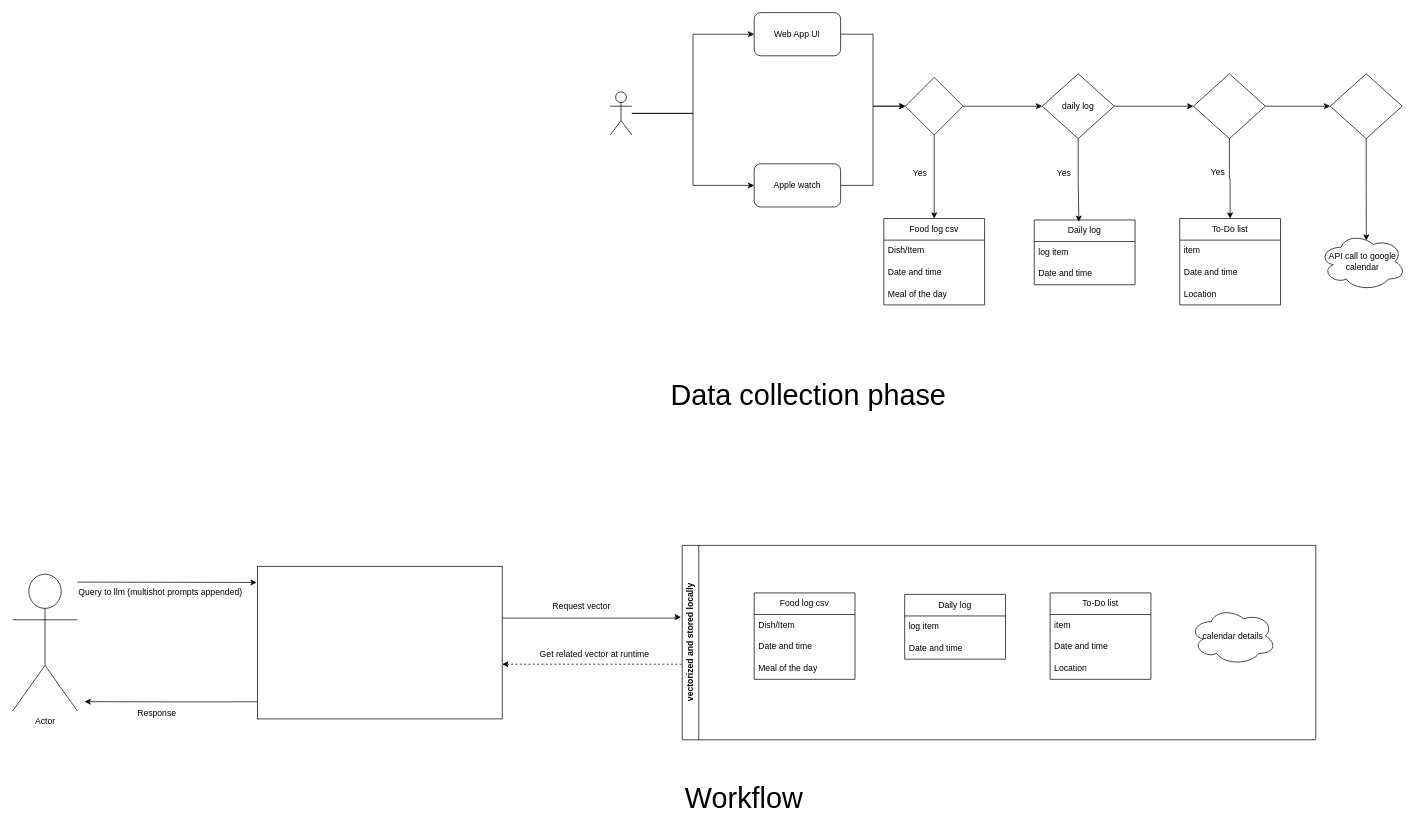
This 1418x832 diagram has some shape labels left out. The centre of each missing label's shape, as x and y in pixels:
calendar update: (1365,106)
food log: (934,106)
Local llm Model: (379,642)
to-do item: (1229,106)
User enters data: (620,113)
